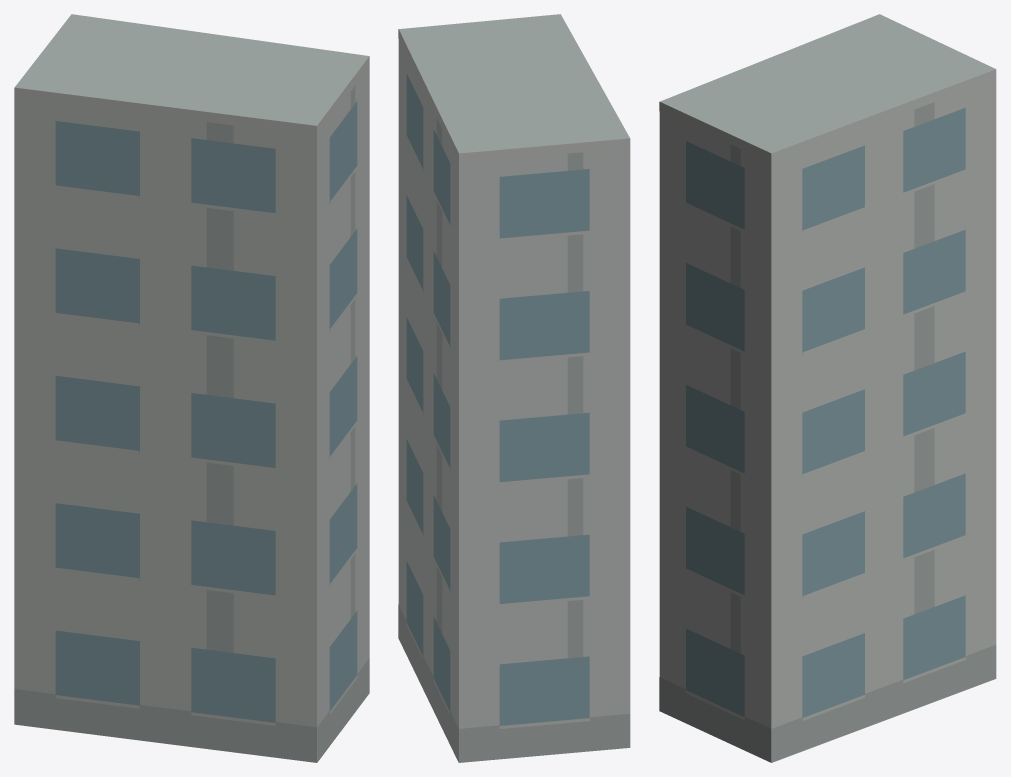
Rendered from survey-upis-32646974.glb.
3 views of the same model, side by side, from view 1: azimuth 30°, elevation 25°; view 2: azimuth 150°, elevation 25°; view 3: azimuth 270°, elevation 25° (orthographic). The views are drawn at different scales.
Parts seen in each view (by area): view 1: survey-upis-32646974.tmp; view 2: survey-upis-32646974.tmp; view 3: survey-upis-32646974.tmp.
Part boxes in pixels (x1,y1,x2,y2): survey-upis-32646974.tmp: [14, 14, 369, 762]; survey-upis-32646974.tmp: [398, 14, 630, 762]; survey-upis-32646974.tmp: [659, 14, 996, 762].
Bounding box in the file's own units: 7.49 × 15.25 × 7.64.
